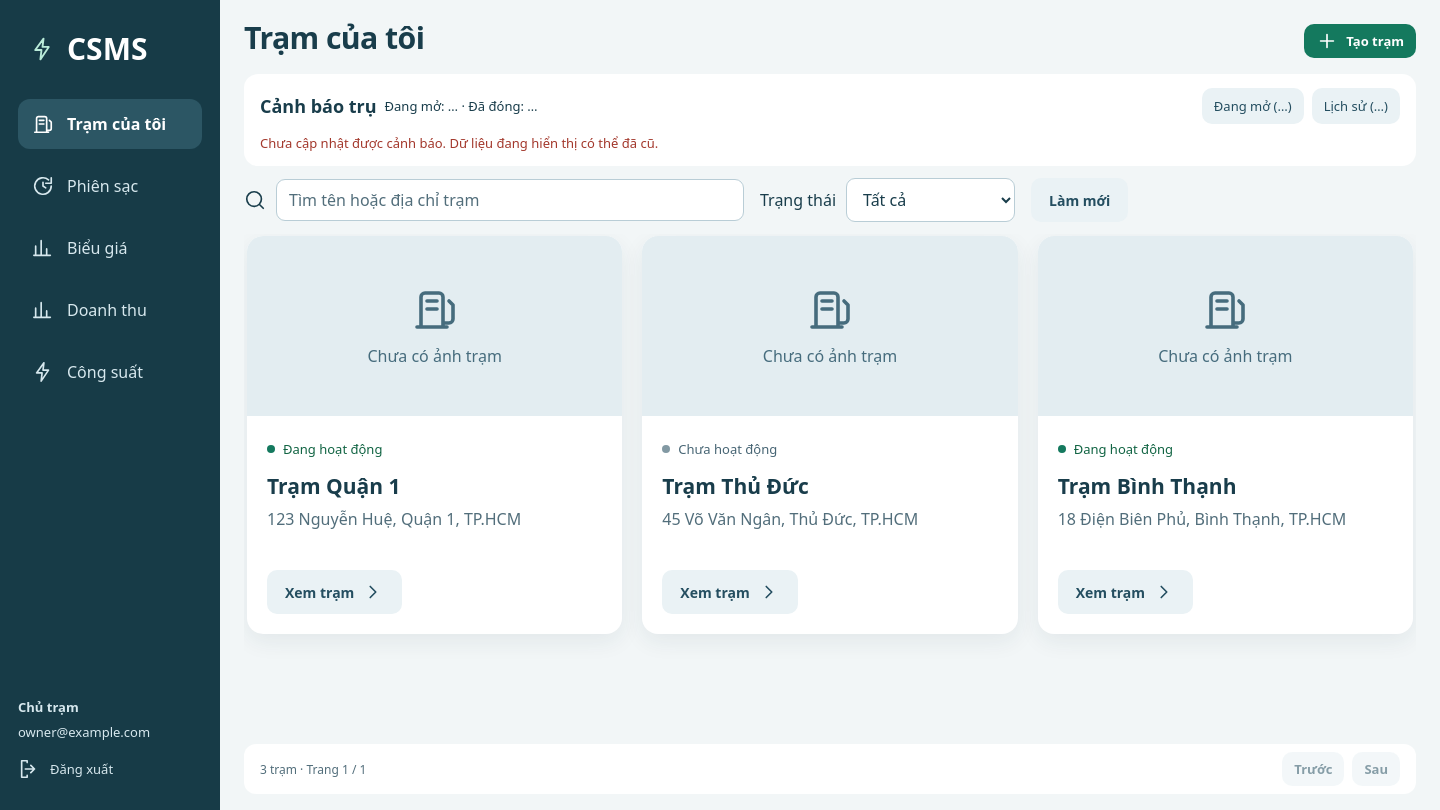
App › loads and filters an injected station API
Expected: the heading "Trạm của tôi" is shown, [244, 20, 424, 56]
Expected: the number of headings "Trạm Quận 1" is 1, [267, 472, 400, 500]
Step 1. Type "Thủ Đức" into the search field named "Tìm trạm" → (510, 200), box [276, 179, 744, 221]
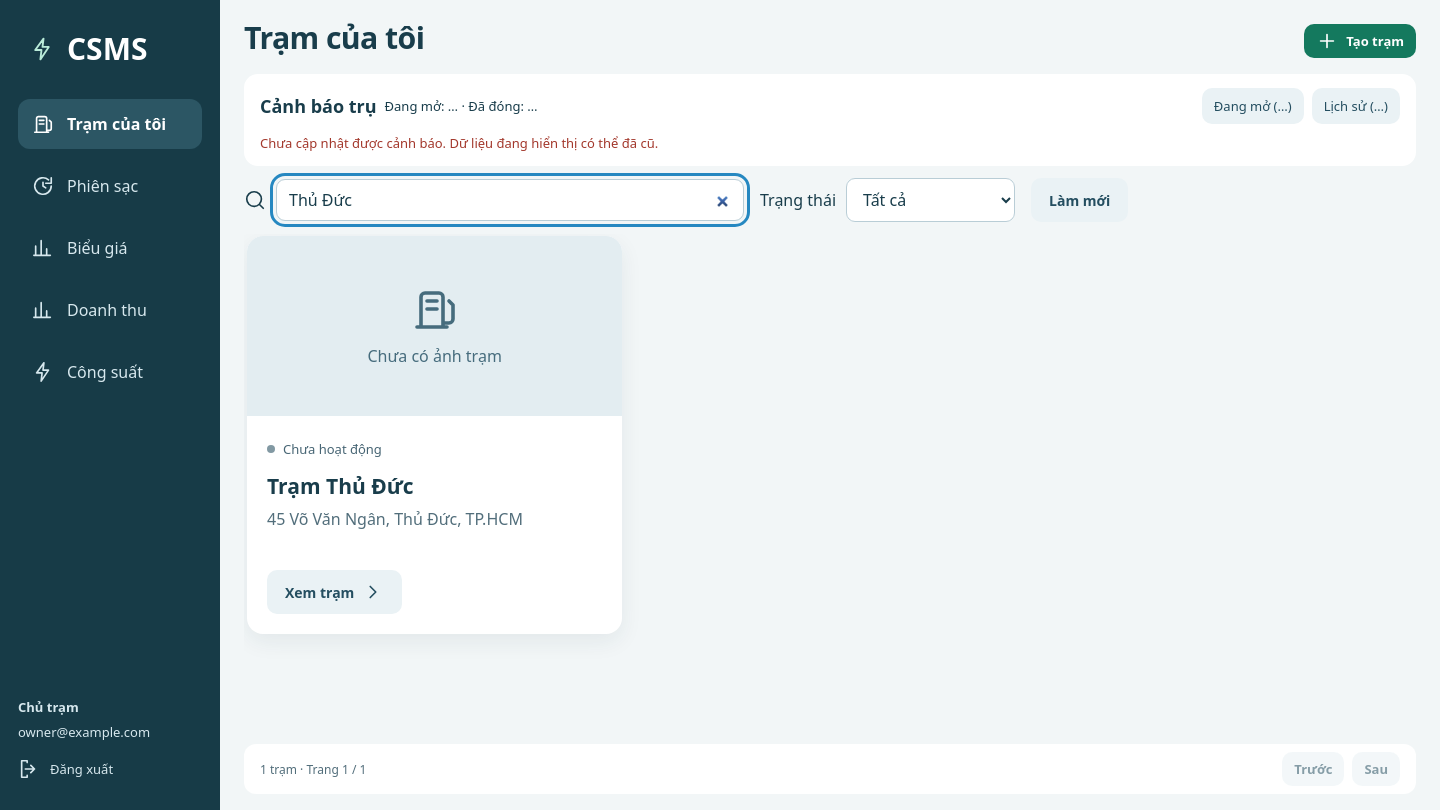
Now the number of headings "Trạm Thủ Đức" is 1, box [267, 472, 414, 500]
Now no headings "Trạm Quận 1" are shown
